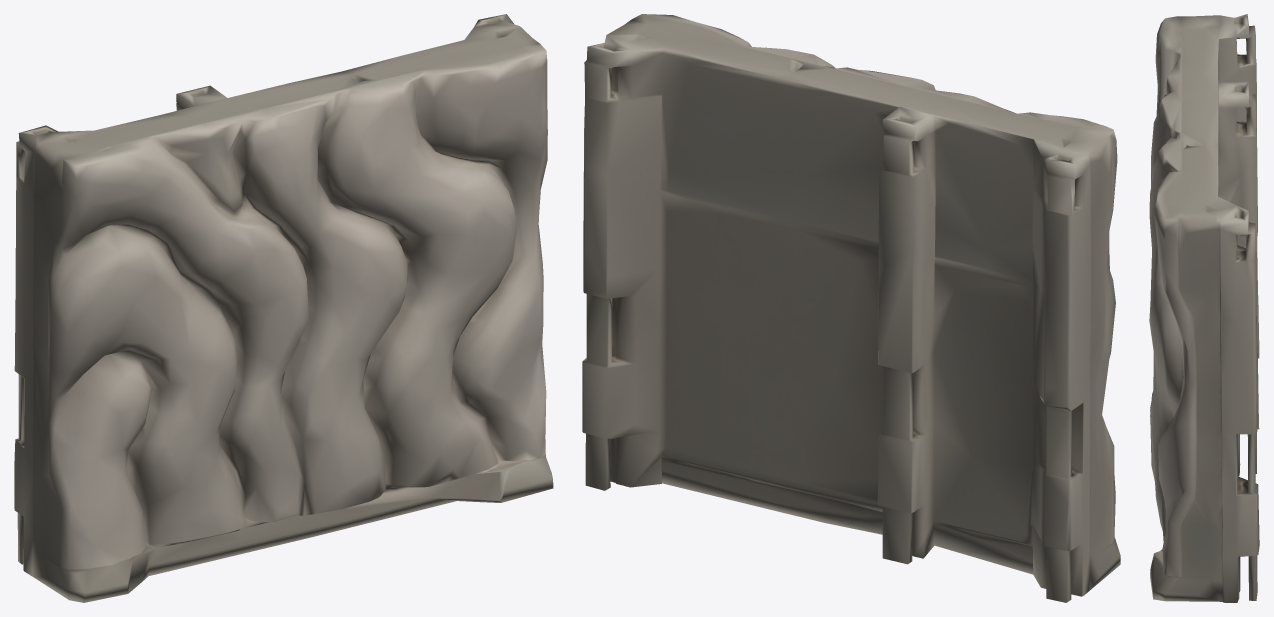
File: ENV_ALL_067_v001_RAW.glb.glb
3 renders of one model, left to right at view 1: azimuth 30°, elevation 25°; view 2: azimuth 150°, elevation 25°; view 3: azimuth 270°, elevation 25°, orthographic. The views are drawn at different scales.
Visible parts, largest first — view 1: tripo_node_540d5ad9-9e4f-42e4-926f-b9ceccb2bf04; view 2: tripo_node_540d5ad9-9e4f-42e4-926f-b9ceccb2bf04; view 3: tripo_node_540d5ad9-9e4f-42e4-926f-b9ceccb2bf04.
Boxes of the visible parts, <box> form: tripo_node_540d5ad9-9e4f-42e4-926f-b9ceccb2bf04: <box>14,14,553,602</box>; tripo_node_540d5ad9-9e4f-42e4-926f-b9ceccb2bf04: <box>582,14,1120,602</box>; tripo_node_540d5ad9-9e4f-42e4-926f-b9ceccb2bf04: <box>1149,14,1259,602</box>.
Bounding box in the file's own units: 0.9809 × 0.8293 × 0.2171.
Materials: 1 (1 with a texture image).
